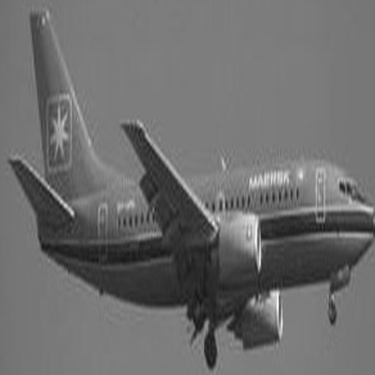airplane: (3, 2, 373, 371)
